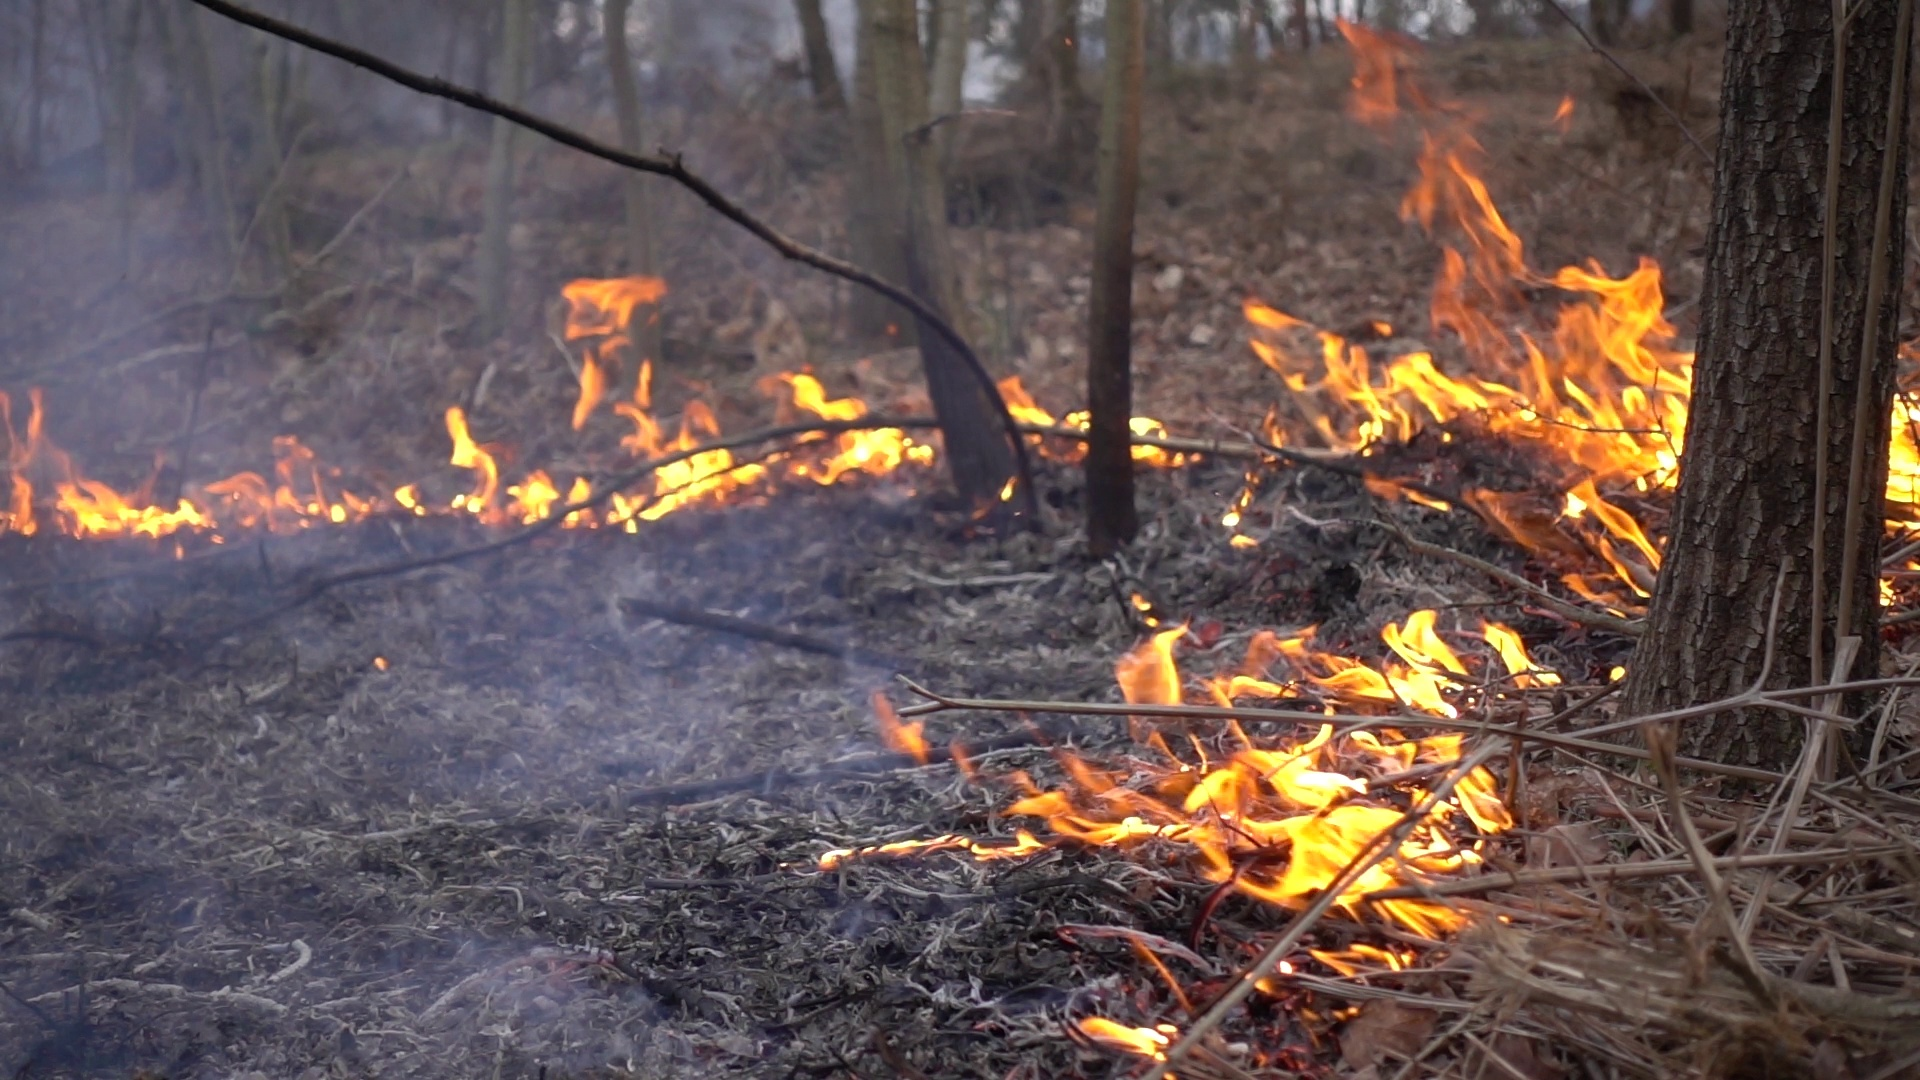fire: (1006, 620, 1536, 998), (1247, 198, 1697, 531), (554, 273, 758, 522), (438, 396, 596, 541), (1, 454, 196, 549), (769, 369, 913, 484), (207, 433, 364, 531), (1884, 396, 1920, 525), (1888, 400, 1920, 524), (1127, 417, 1164, 459)
